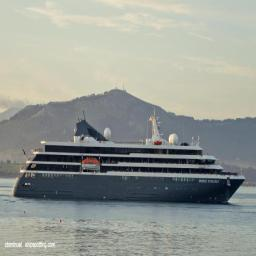cruises: (11, 106, 248, 208)
